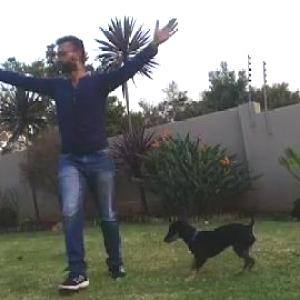takeoff: (0, 0, 159, 294)
